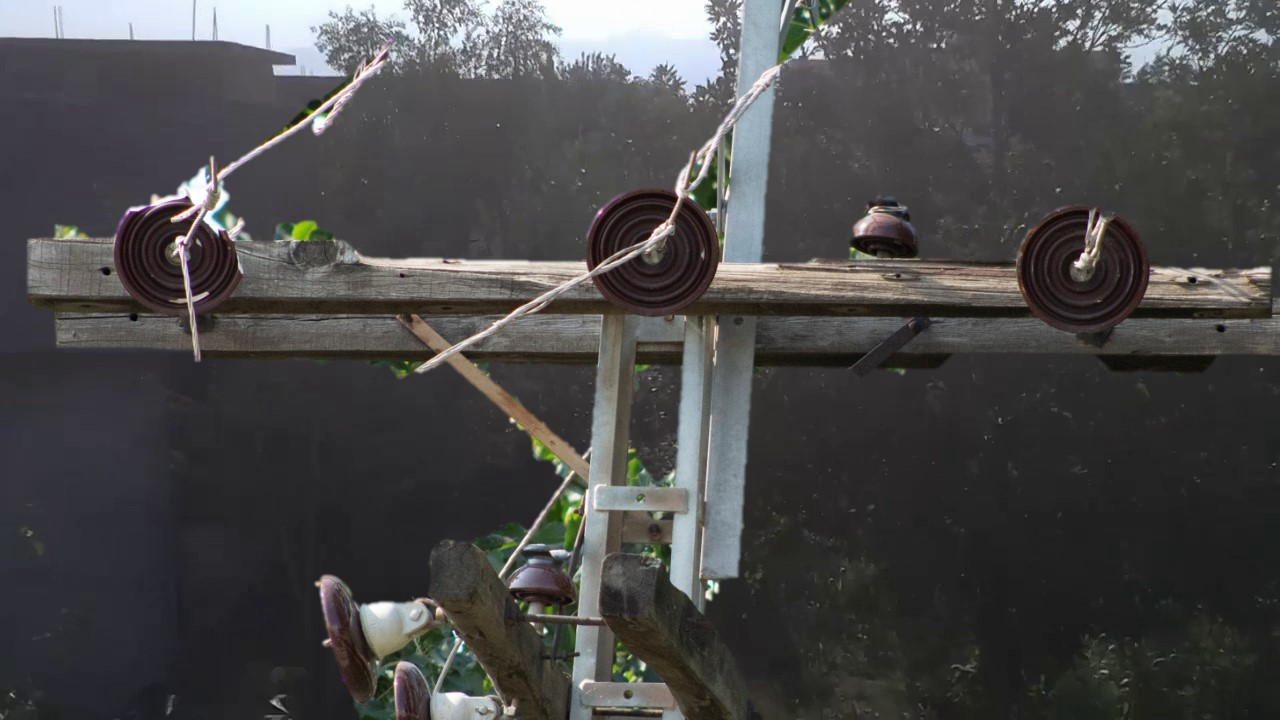defect_disc: (111, 186, 248, 314)
insulator_disc: (1013, 203, 1154, 343), (580, 188, 726, 321), (314, 560, 427, 697)
insulator_pin: (507, 535, 575, 611), (848, 191, 921, 259)
